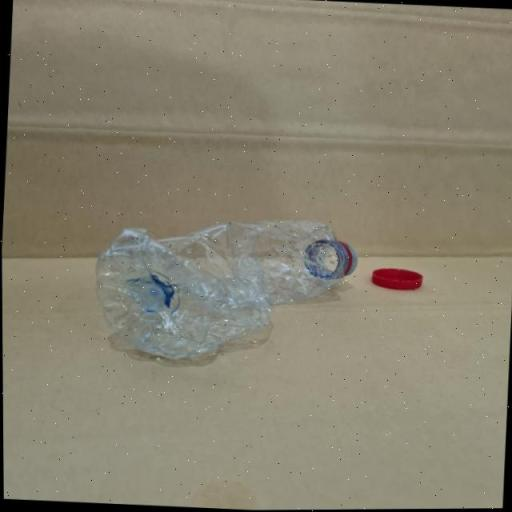plastic: (83, 206, 362, 372)
